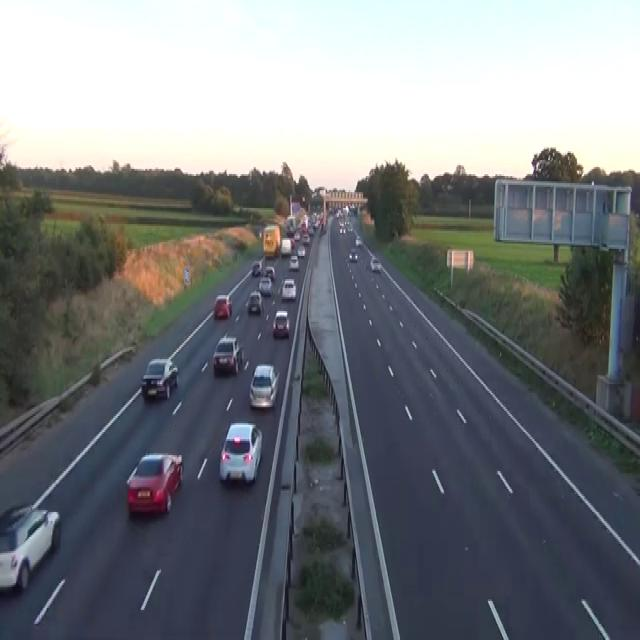Car: (0, 501, 61, 592), (125, 452, 183, 516), (219, 422, 262, 484), (141, 357, 178, 400), (248, 363, 280, 409), (212, 334, 243, 375), (272, 309, 289, 338), (214, 294, 232, 318), (246, 290, 262, 313), (281, 278, 296, 300), (258, 275, 272, 297), (280, 236, 291, 256), (370, 256, 381, 272), (289, 254, 299, 270), (252, 260, 262, 276), (265, 265, 275, 281), (348, 247, 358, 261), (301, 231, 310, 244), (297, 244, 305, 258), (285, 224, 294, 236), (289, 237, 296, 250), (348, 205, 357, 215), (320, 222, 326, 235), (293, 229, 300, 240), (446, 183, 454, 192), (345, 221, 352, 231), (355, 237, 362, 246), (307, 226, 314, 234), (339, 224, 345, 233), (343, 204, 348, 213)
Truck: (262, 224, 280, 258)
